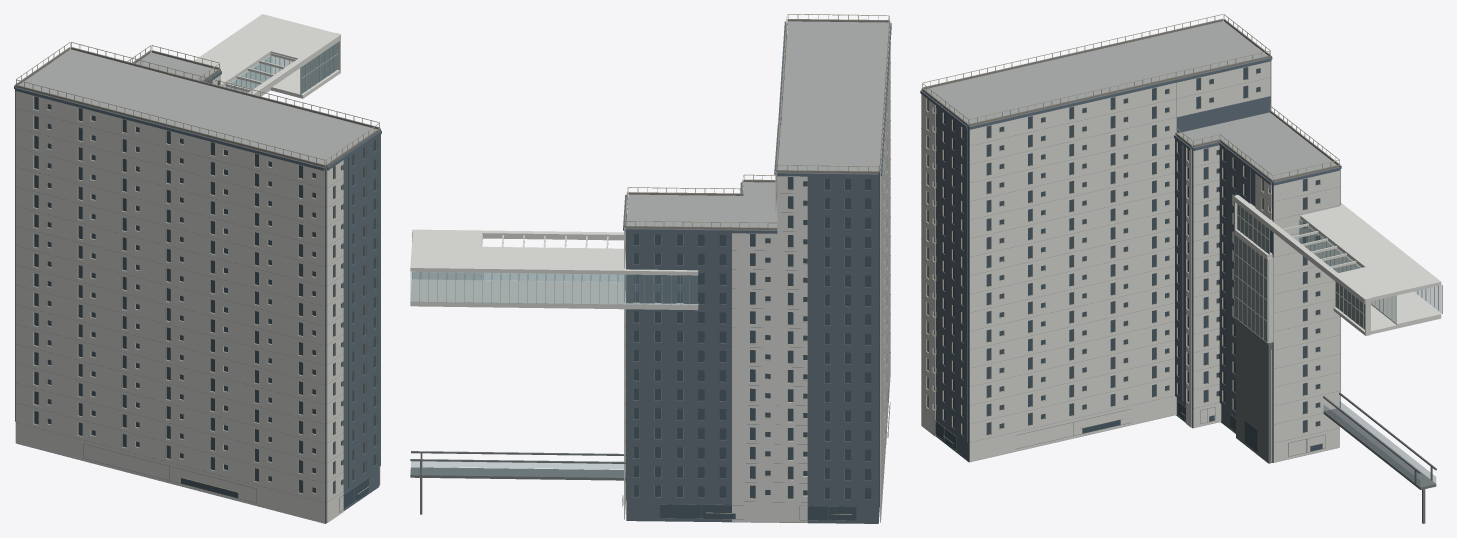
The model's file is bespoke-raemian-onebailey-123.glb.
The picture shows the model from 3 angles, left to right: view 1: azimuth 30°, elevation 25°; view 2: azimuth 150°, elevation 25°; view 3: azimuth 270°, elevation 25°; orthographic projection. The views are drawn at different scales.
Visible parts, largest first — view 1: 123_observed_facade_bays006_4, 123_setback_roof_and_bridge_bracing006_4, 123_observed_facade_bays006_1, 123_observed_facade_bays006_3, 123_observed_facade_bays006_2, 123_authored_massing006_1, 123_authored_massing006, 123_observed_facade_bays006_5, 123_setback_roof_and_bridge_bracing006, 123_setback_roof_and_bridge_bracing006_1, 123_observed_facade_bays006, 123_observed_facade_bays006_6 (+1 smaller); view 2: 123_observed_facade_bays006_3, 123_observed_facade_bays006_4, 123_setback_roof_and_bridge_bracing006_4, 123_observed_facade_bays006_1, 123_authored_massing006_1, 123_observed_facade_bays006_6, 123_authored_massing006, 123_observed_facade_bays006_2, 123_authored_massing006_2, 123_setback_roof_and_bridge_bracing006, 123_observed_facade_bays006_5, 123_setback_roof_and_bridge_bracing006_1 (+1 smaller); view 3: 123_observed_facade_bays006_4, 123_setback_roof_and_bridge_bracing006_4, 123_observed_facade_bays006_3, 123_observed_facade_bays006_1, 123_observed_facade_bays006_2, 123_authored_massing006_1, 123_authored_massing006, 123_observed_facade_bays006_5, 123_observed_facade_bays006, 123_observed_facade_bays006_6, 123_setback_roof_and_bridge_bracing006, 123_setback_roof_and_bridge_bracing006_1 (+2 smaller).
Part boxes in pixels (left/top/right/bottom): 123_observed_facade_bays006_4: left=15, top=52, right=380, bottom=523; 123_setback_roof_and_bridge_bracing006_4: left=17, top=49, right=376, bottom=167; 123_observed_facade_bays006_1: left=34, top=81, right=375, bottom=508; 123_observed_facade_bays006_3: left=14, top=51, right=381, bottom=487; 123_observed_facade_bays006_2: left=33, top=45, right=376, bottom=495; 123_authored_massing006_1: left=194, top=14, right=340, bottom=98; 123_authored_massing006: left=17, top=71, right=379, bottom=523; 123_observed_facade_bays006_5: left=16, top=108, right=369, bottom=512; 123_setback_roof_and_bridge_bracing006: left=15, top=47, right=380, bottom=166; 123_setback_roof_and_bridge_bracing006_1: left=16, top=42, right=379, bottom=164; 123_observed_facade_bays006: left=300, top=42, right=337, bottom=94; 123_observed_facade_bays006_6: left=225, top=56, right=292, bottom=92; 123_observed_facade_bays006_3: left=623, top=21, right=891, bottom=503; 123_observed_facade_bays006_4: left=624, top=24, right=890, bottom=522; 123_setback_roof_and_bridge_bracing006_4: left=626, top=21, right=888, bottom=230; 123_observed_facade_bays006_1: left=622, top=35, right=889, bottom=520; 123_authored_massing006_1: left=410, top=229, right=698, bottom=310; 123_observed_facade_bays006_6: left=410, top=272, right=697, bottom=477; 123_authored_massing006: left=626, top=173, right=879, bottom=523; 123_observed_facade_bays006_2: left=419, top=41, right=890, bottom=514; 123_authored_massing006_2: left=410, top=467, right=625, bottom=514; 123_setback_roof_and_bridge_bracing006: left=624, top=19, right=890, bottom=229; 123_observed_facade_bays006_5: left=659, top=43, right=890, bottom=520; 123_setback_roof_and_bridge_bracing006_1: left=625, top=14, right=889, bottom=227; 123_observed_facade_bays006_4: left=921, top=48, right=1339, bottom=462; 123_setback_roof_and_bridge_bracing006_4: left=925, top=21, right=1338, bottom=182; 123_observed_facade_bays006_3: left=920, top=21, right=1341, bottom=442; 123_observed_facade_bays006_1: left=927, top=67, right=1322, bottom=451; 123_observed_facade_bays006_2: left=926, top=67, right=1442, bottom=446; 123_authored_massing006_1: left=1234, top=195, right=1441, bottom=335; 123_authored_massing006: left=923, top=91, right=1337, bottom=462; 123_observed_facade_bays006_5: left=921, top=77, right=1339, bottom=463; 123_observed_facade_bays006: left=1235, top=204, right=1364, bottom=342; 123_observed_facade_bays006_6: left=1299, top=219, right=1441, bottom=486; 123_setback_roof_and_bridge_bracing006: left=921, top=18, right=1340, bottom=181; 123_setback_roof_and_bridge_bracing006_1: left=922, top=14, right=1339, bottom=179.
Bounding box in the file's own units: 65.63 × 56.85 × 78.33.
